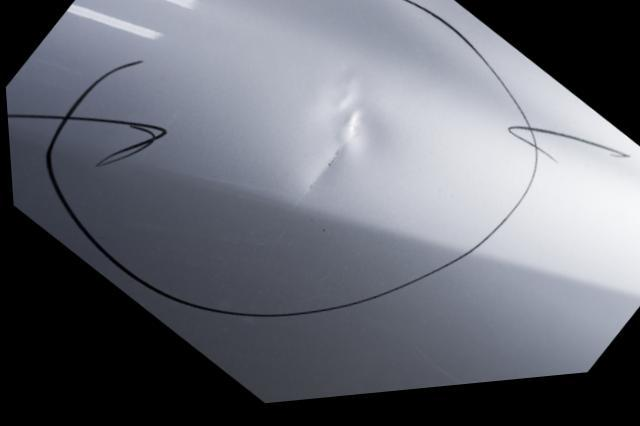dent: (290, 74, 389, 217)
